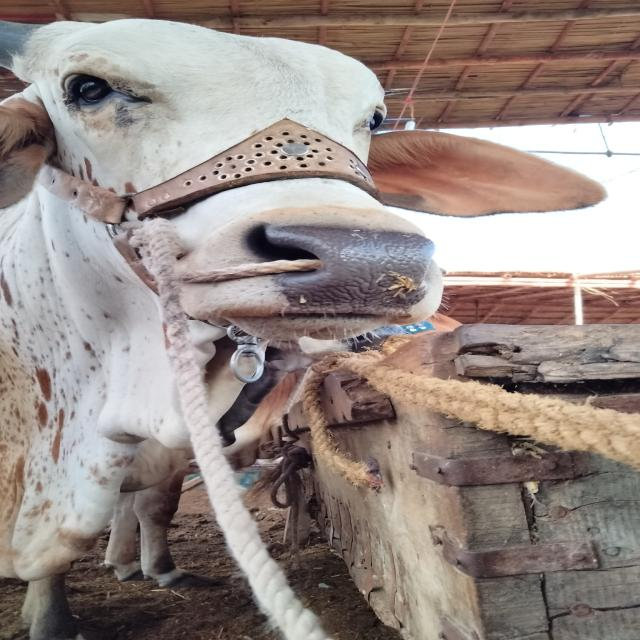muzzles: (225, 208, 456, 323)
